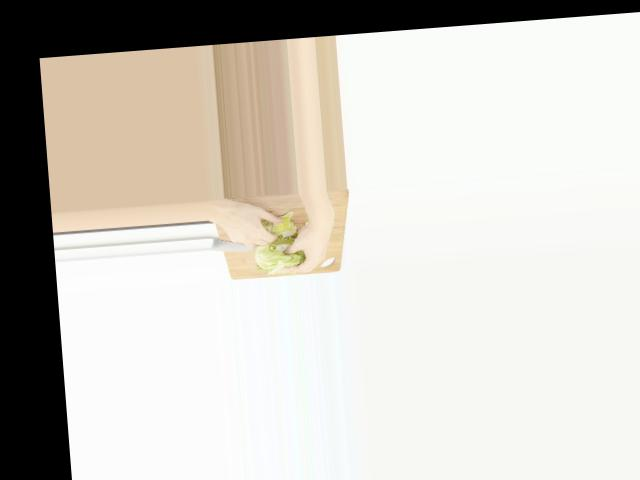lettuce: (252, 238, 303, 274)
